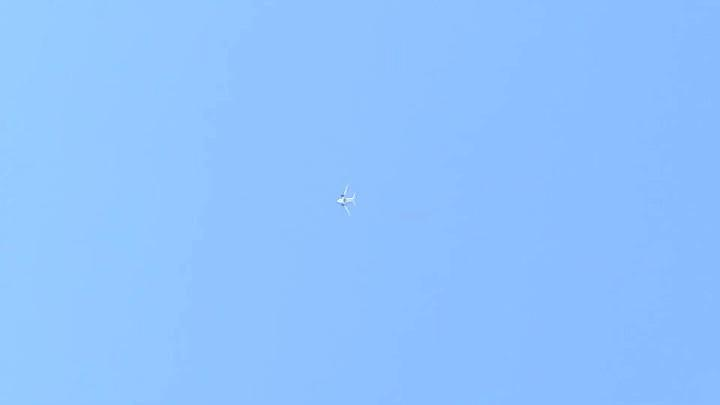Plane: (323, 183, 367, 216)
